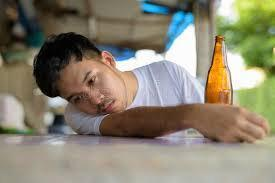Drunk: (57, 62, 125, 114)
